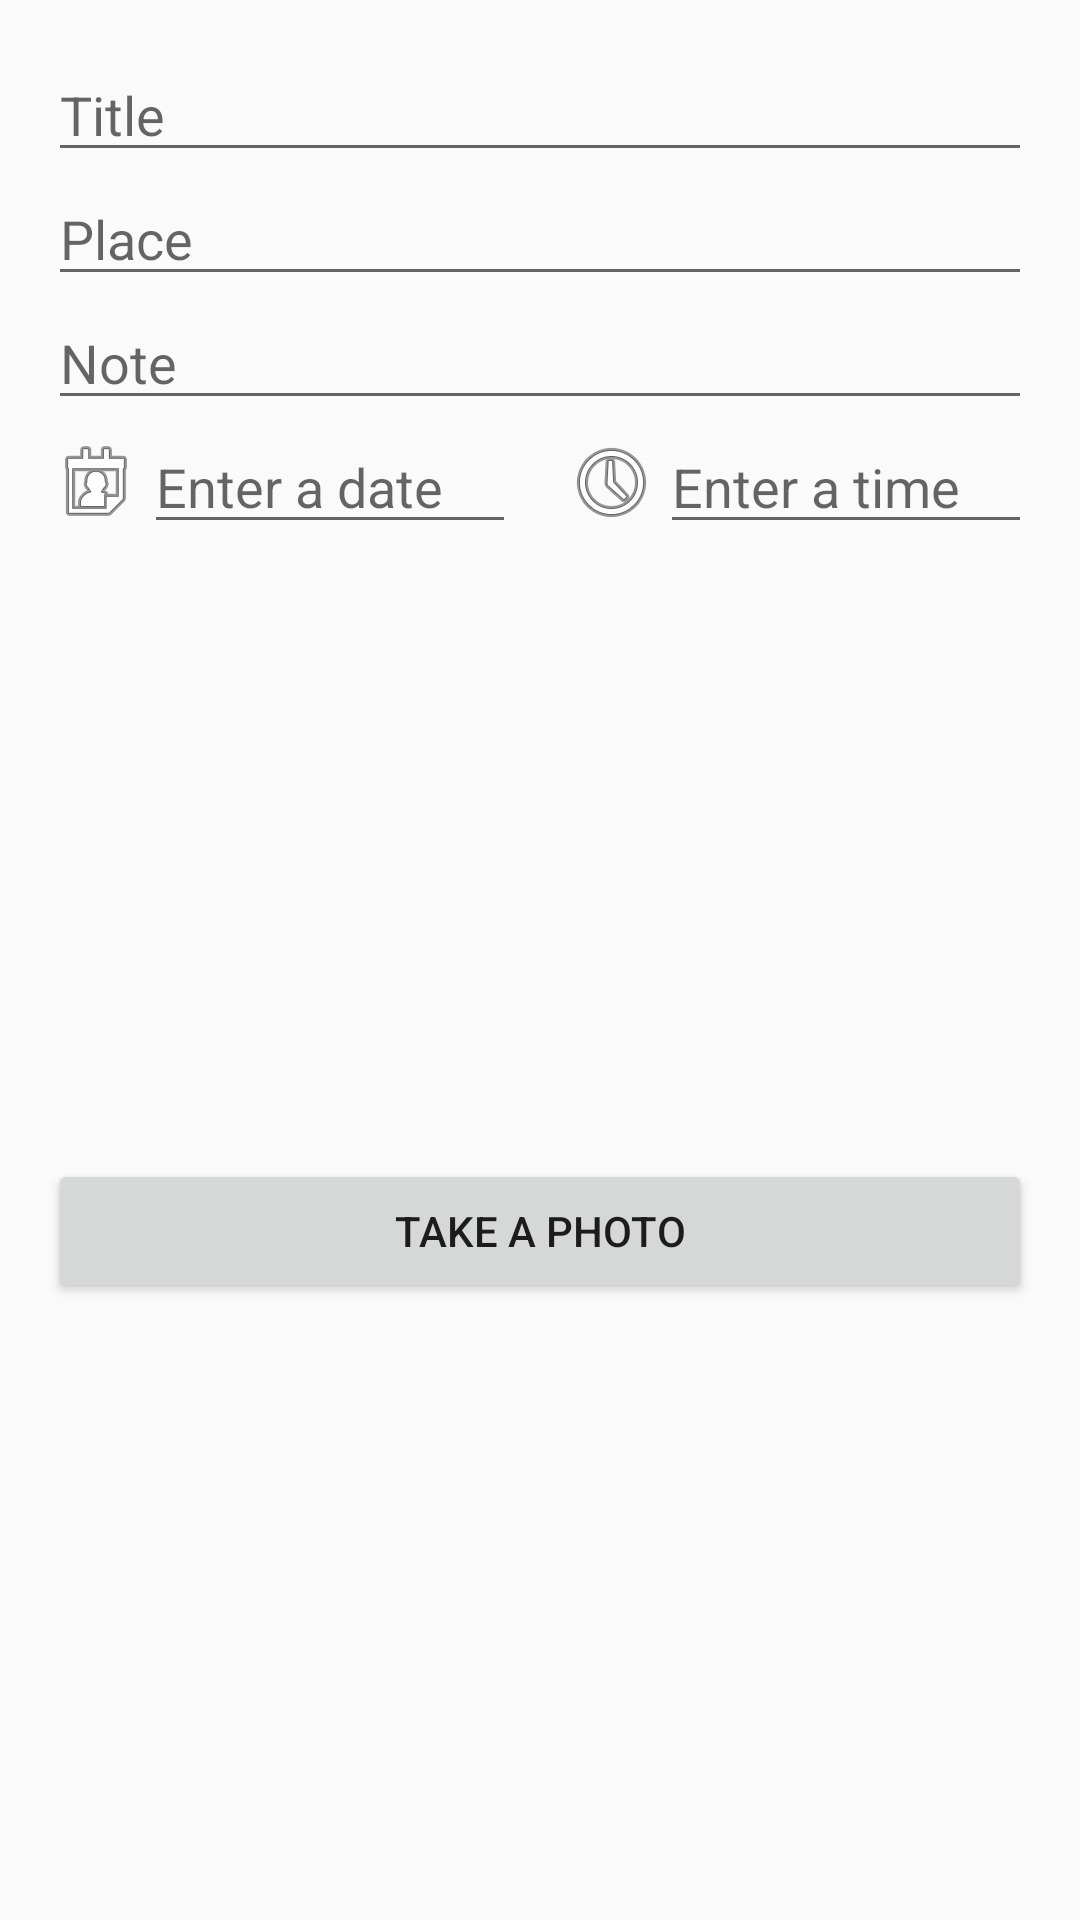

Icon click points for this 1080w x 1920h phone screenshot, format [x,y]:
calendar: [96,481]
recent history: [611,482]
